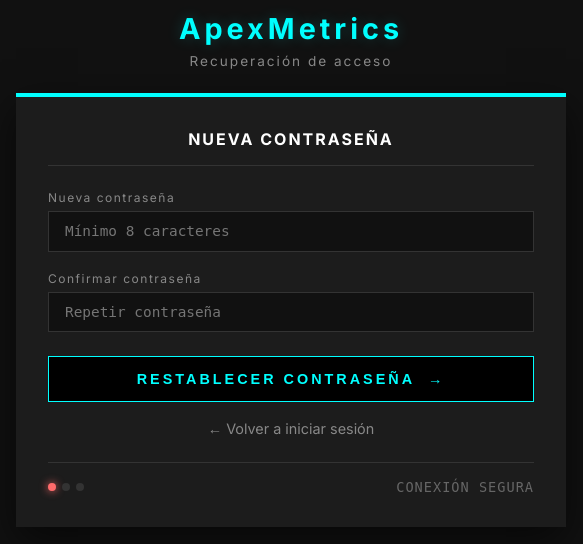
Scenario: ResetPassword — flujo de canje del token › envía token y nueva contraseña, y muestra confirmación
Type "claveNueva123" into the password field with placeholder "Mínimo 8 caracteres" at (291, 231), box [48,211,534,252]
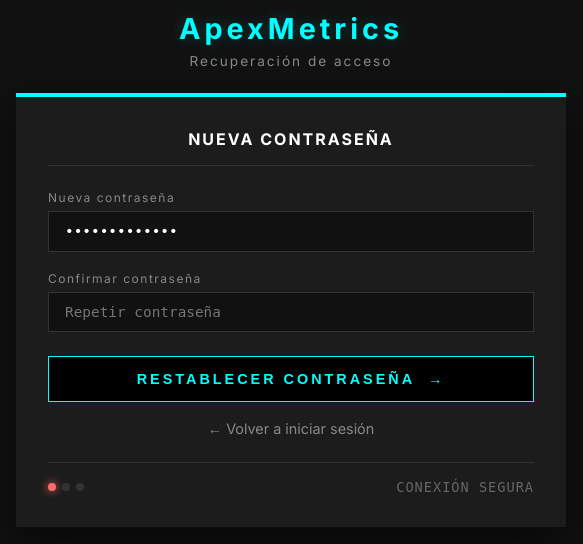
Type "claveNueva123" into the password field with placeholder "Repetir contraseña" at (291, 312), box [48,292,534,332]
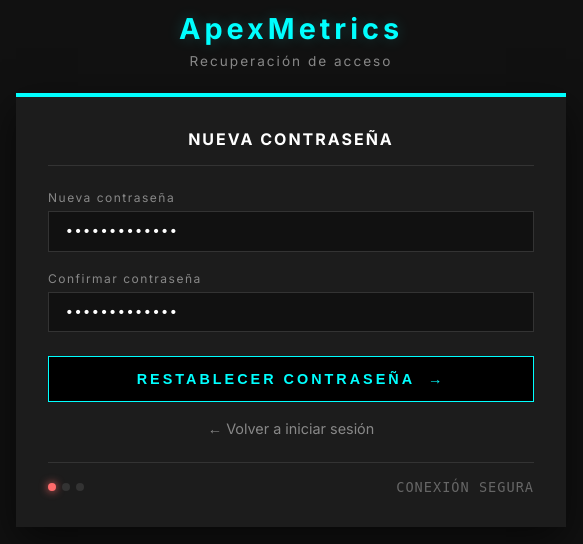
Click the button "RESTABLECER CONTRASEÑA →" at (291, 379), box [48,356,534,402]
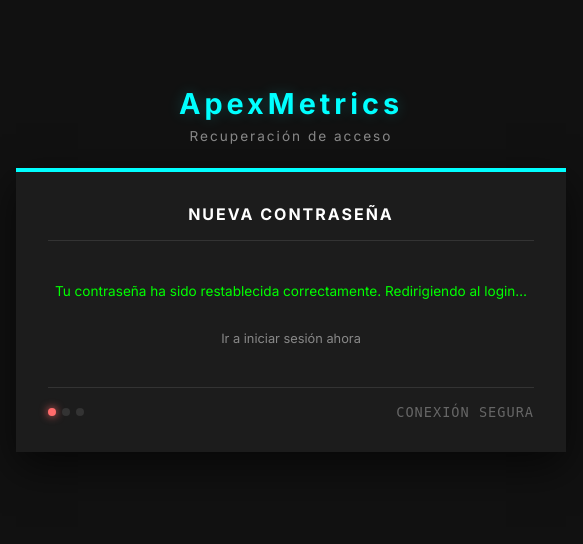
Result: the text "restablecida correctamente" is shown at [55,283,527,299]
